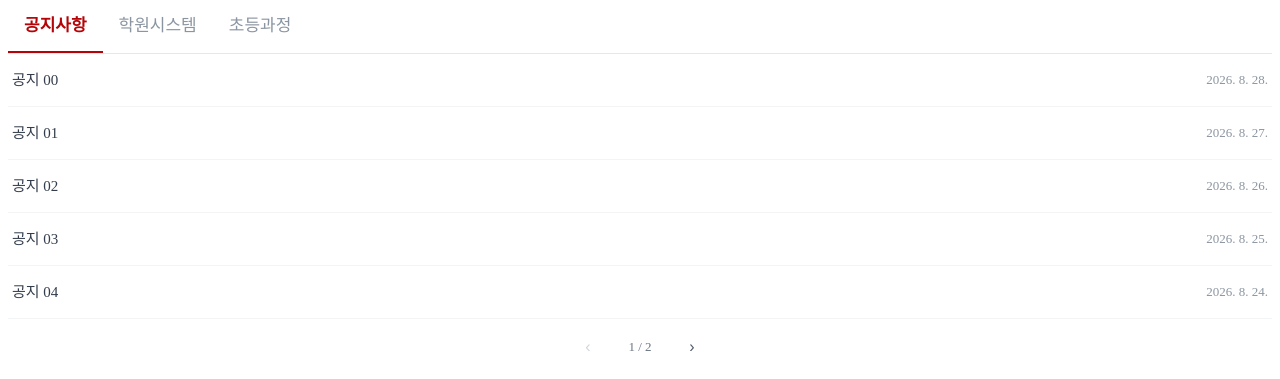
it: BoardBrowser paging › stops at the last page and at the first
Expected: the button named "이전 페이지" is disabled, [572,330,604,362]
Click the button named "다음 페이지" at (692, 346), box [676,330,708,362]
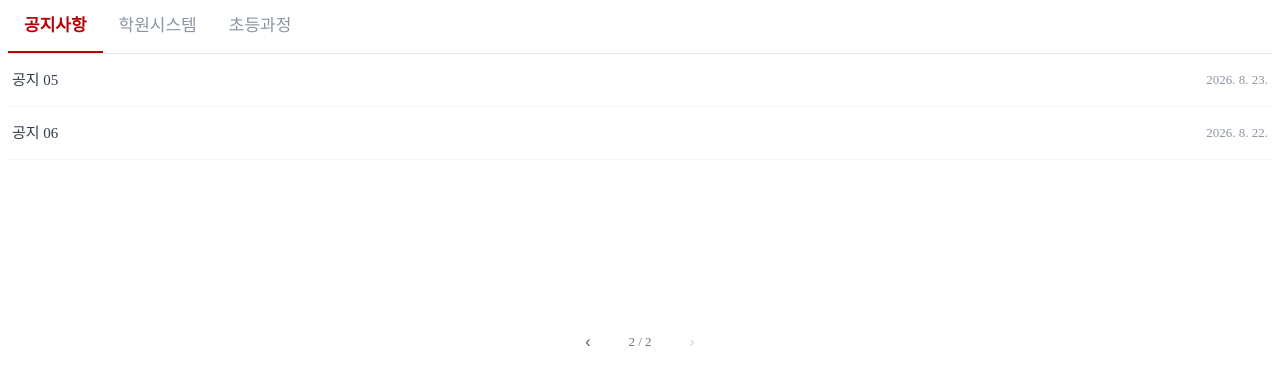
Click the button named "이전 페이지" at (588, 342), box [572,326,604,358]
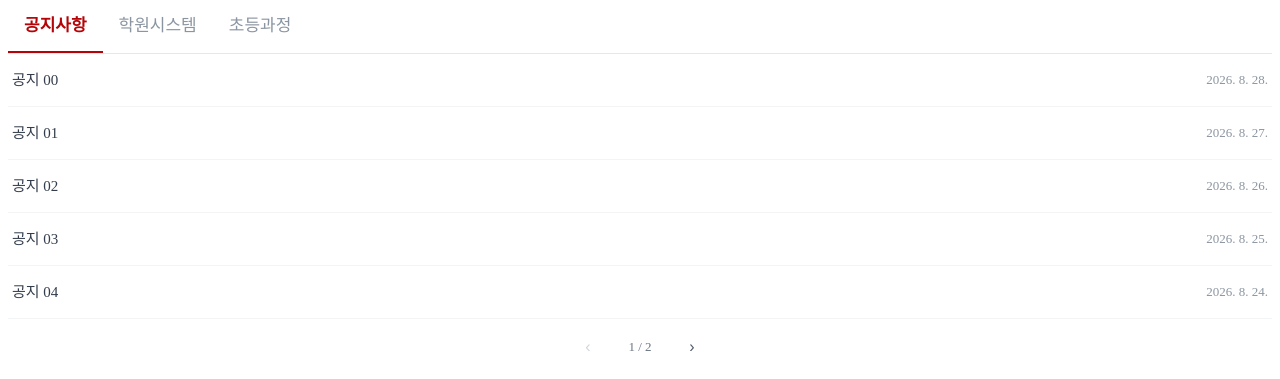
Result: the link "공지 00" is shown at [12,68,58,90]
